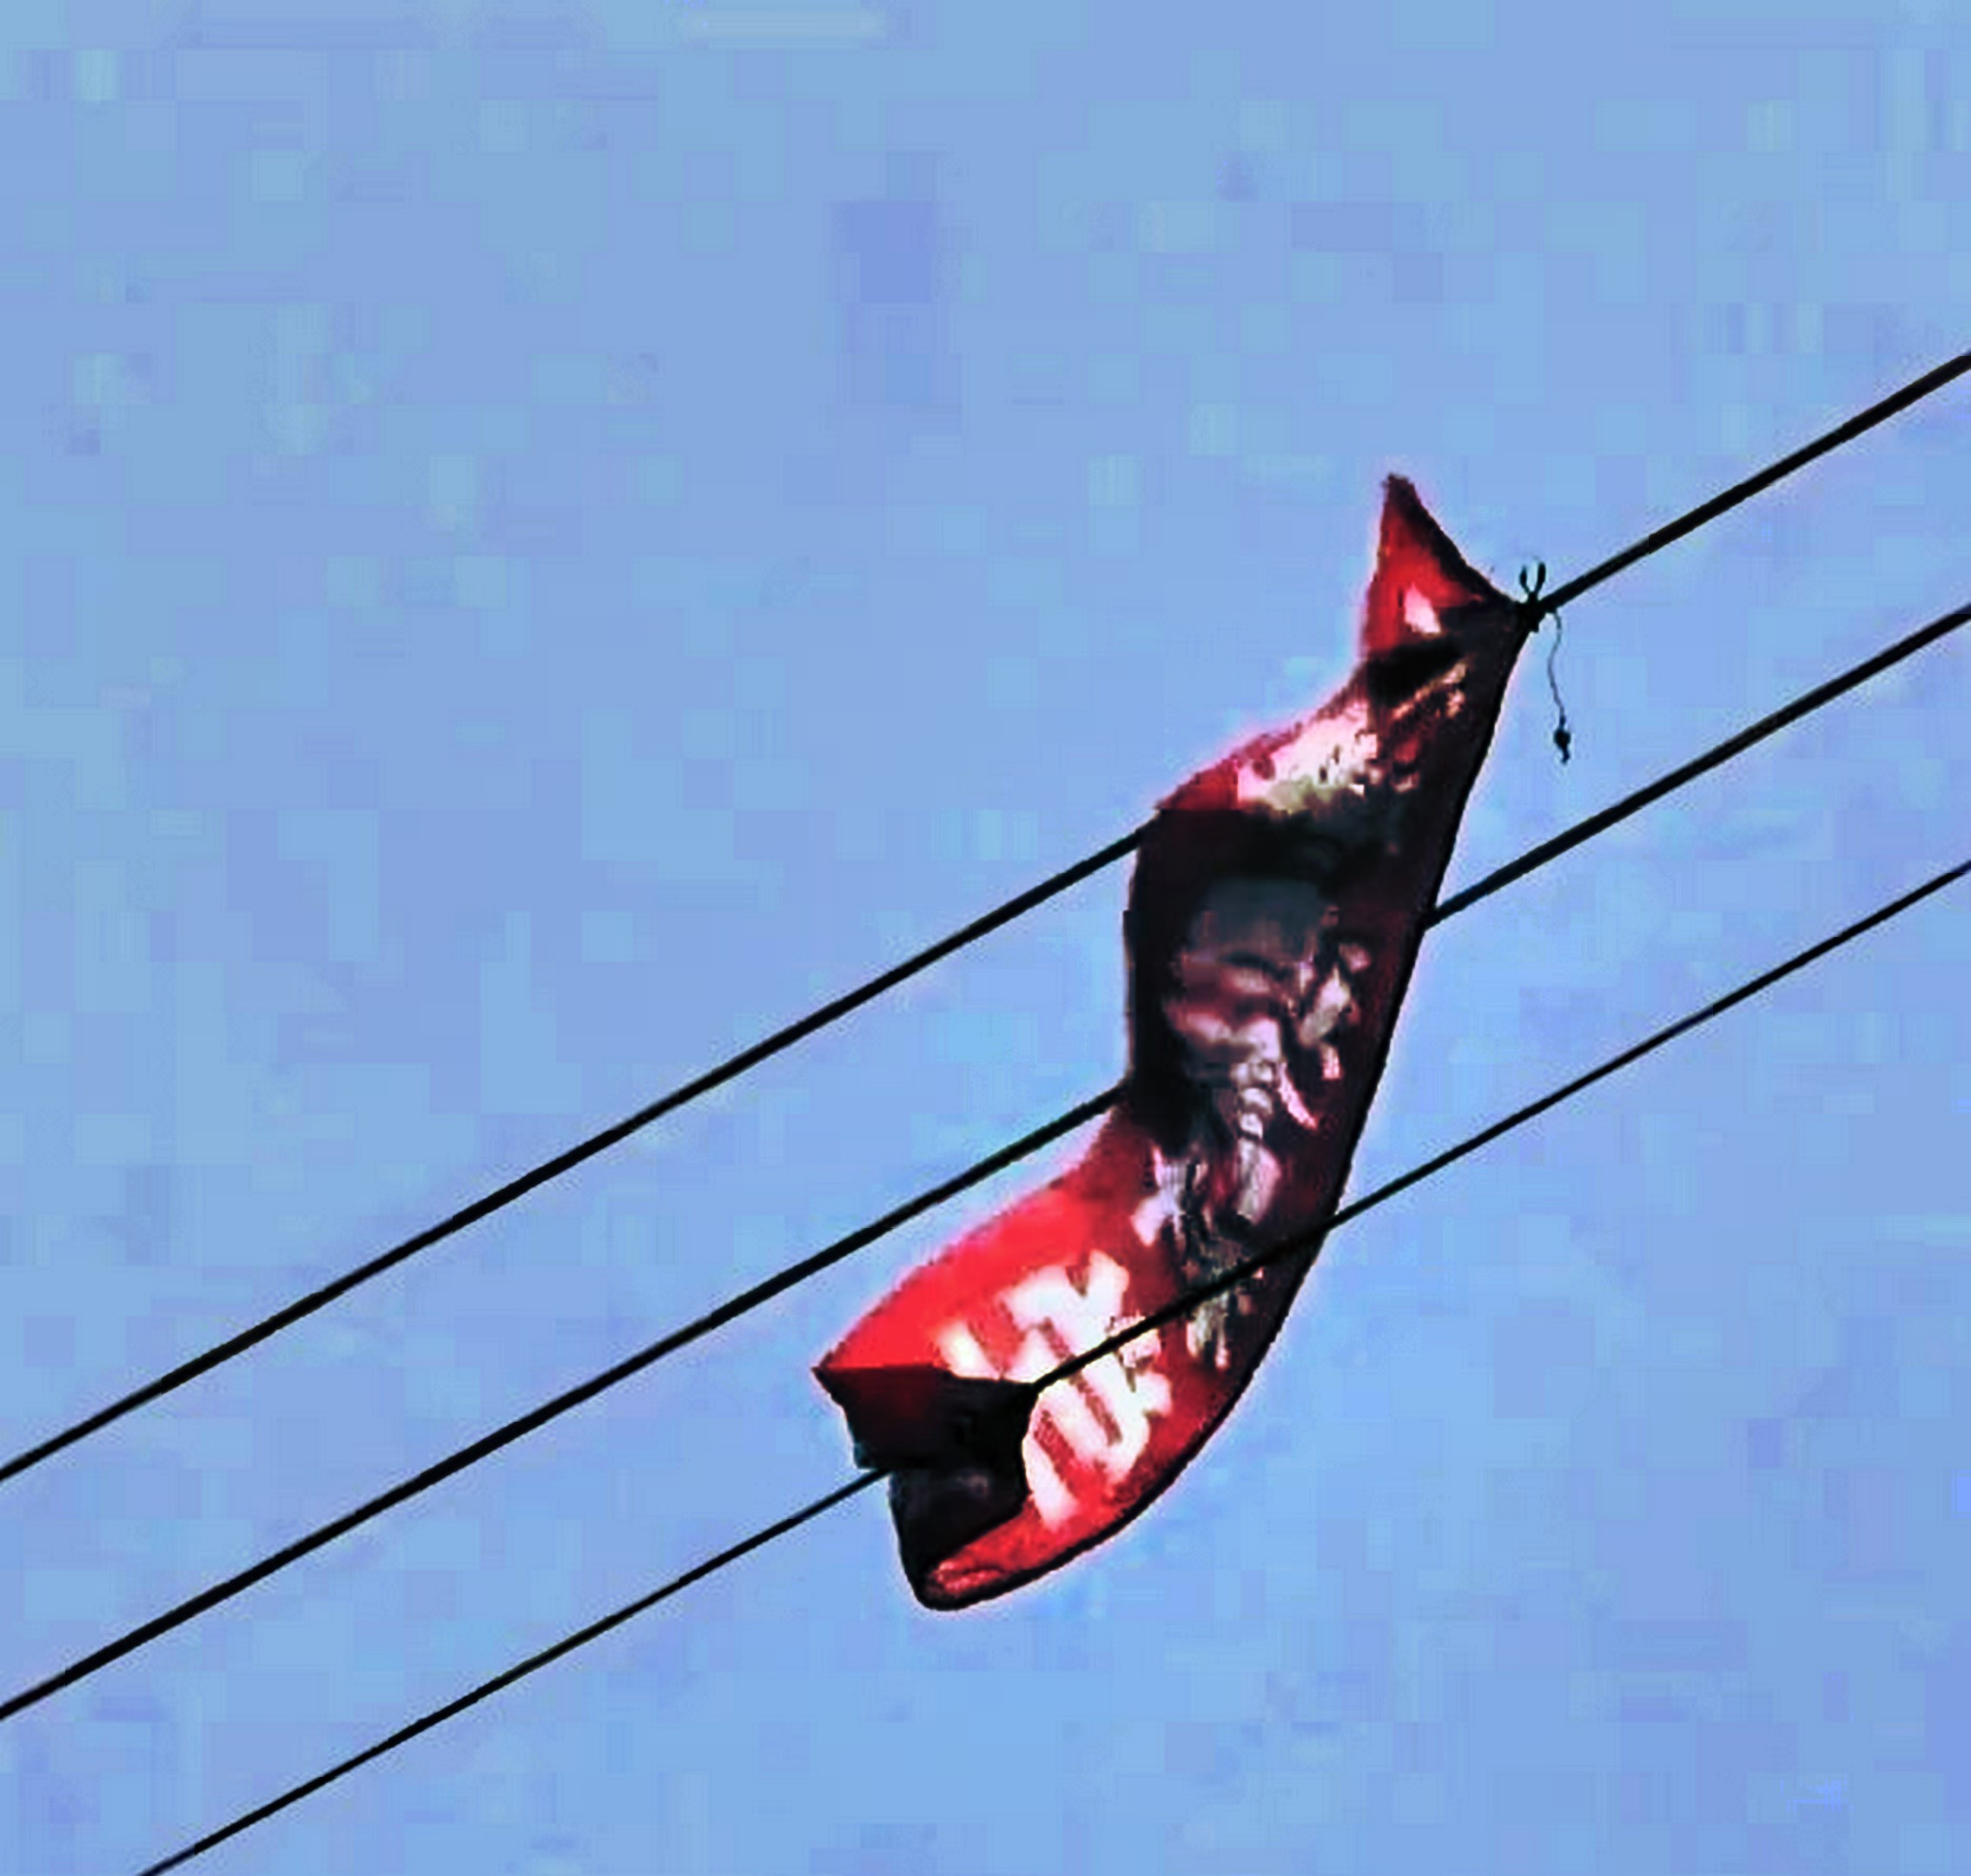wire foreign body: (792, 443, 1563, 1631)
